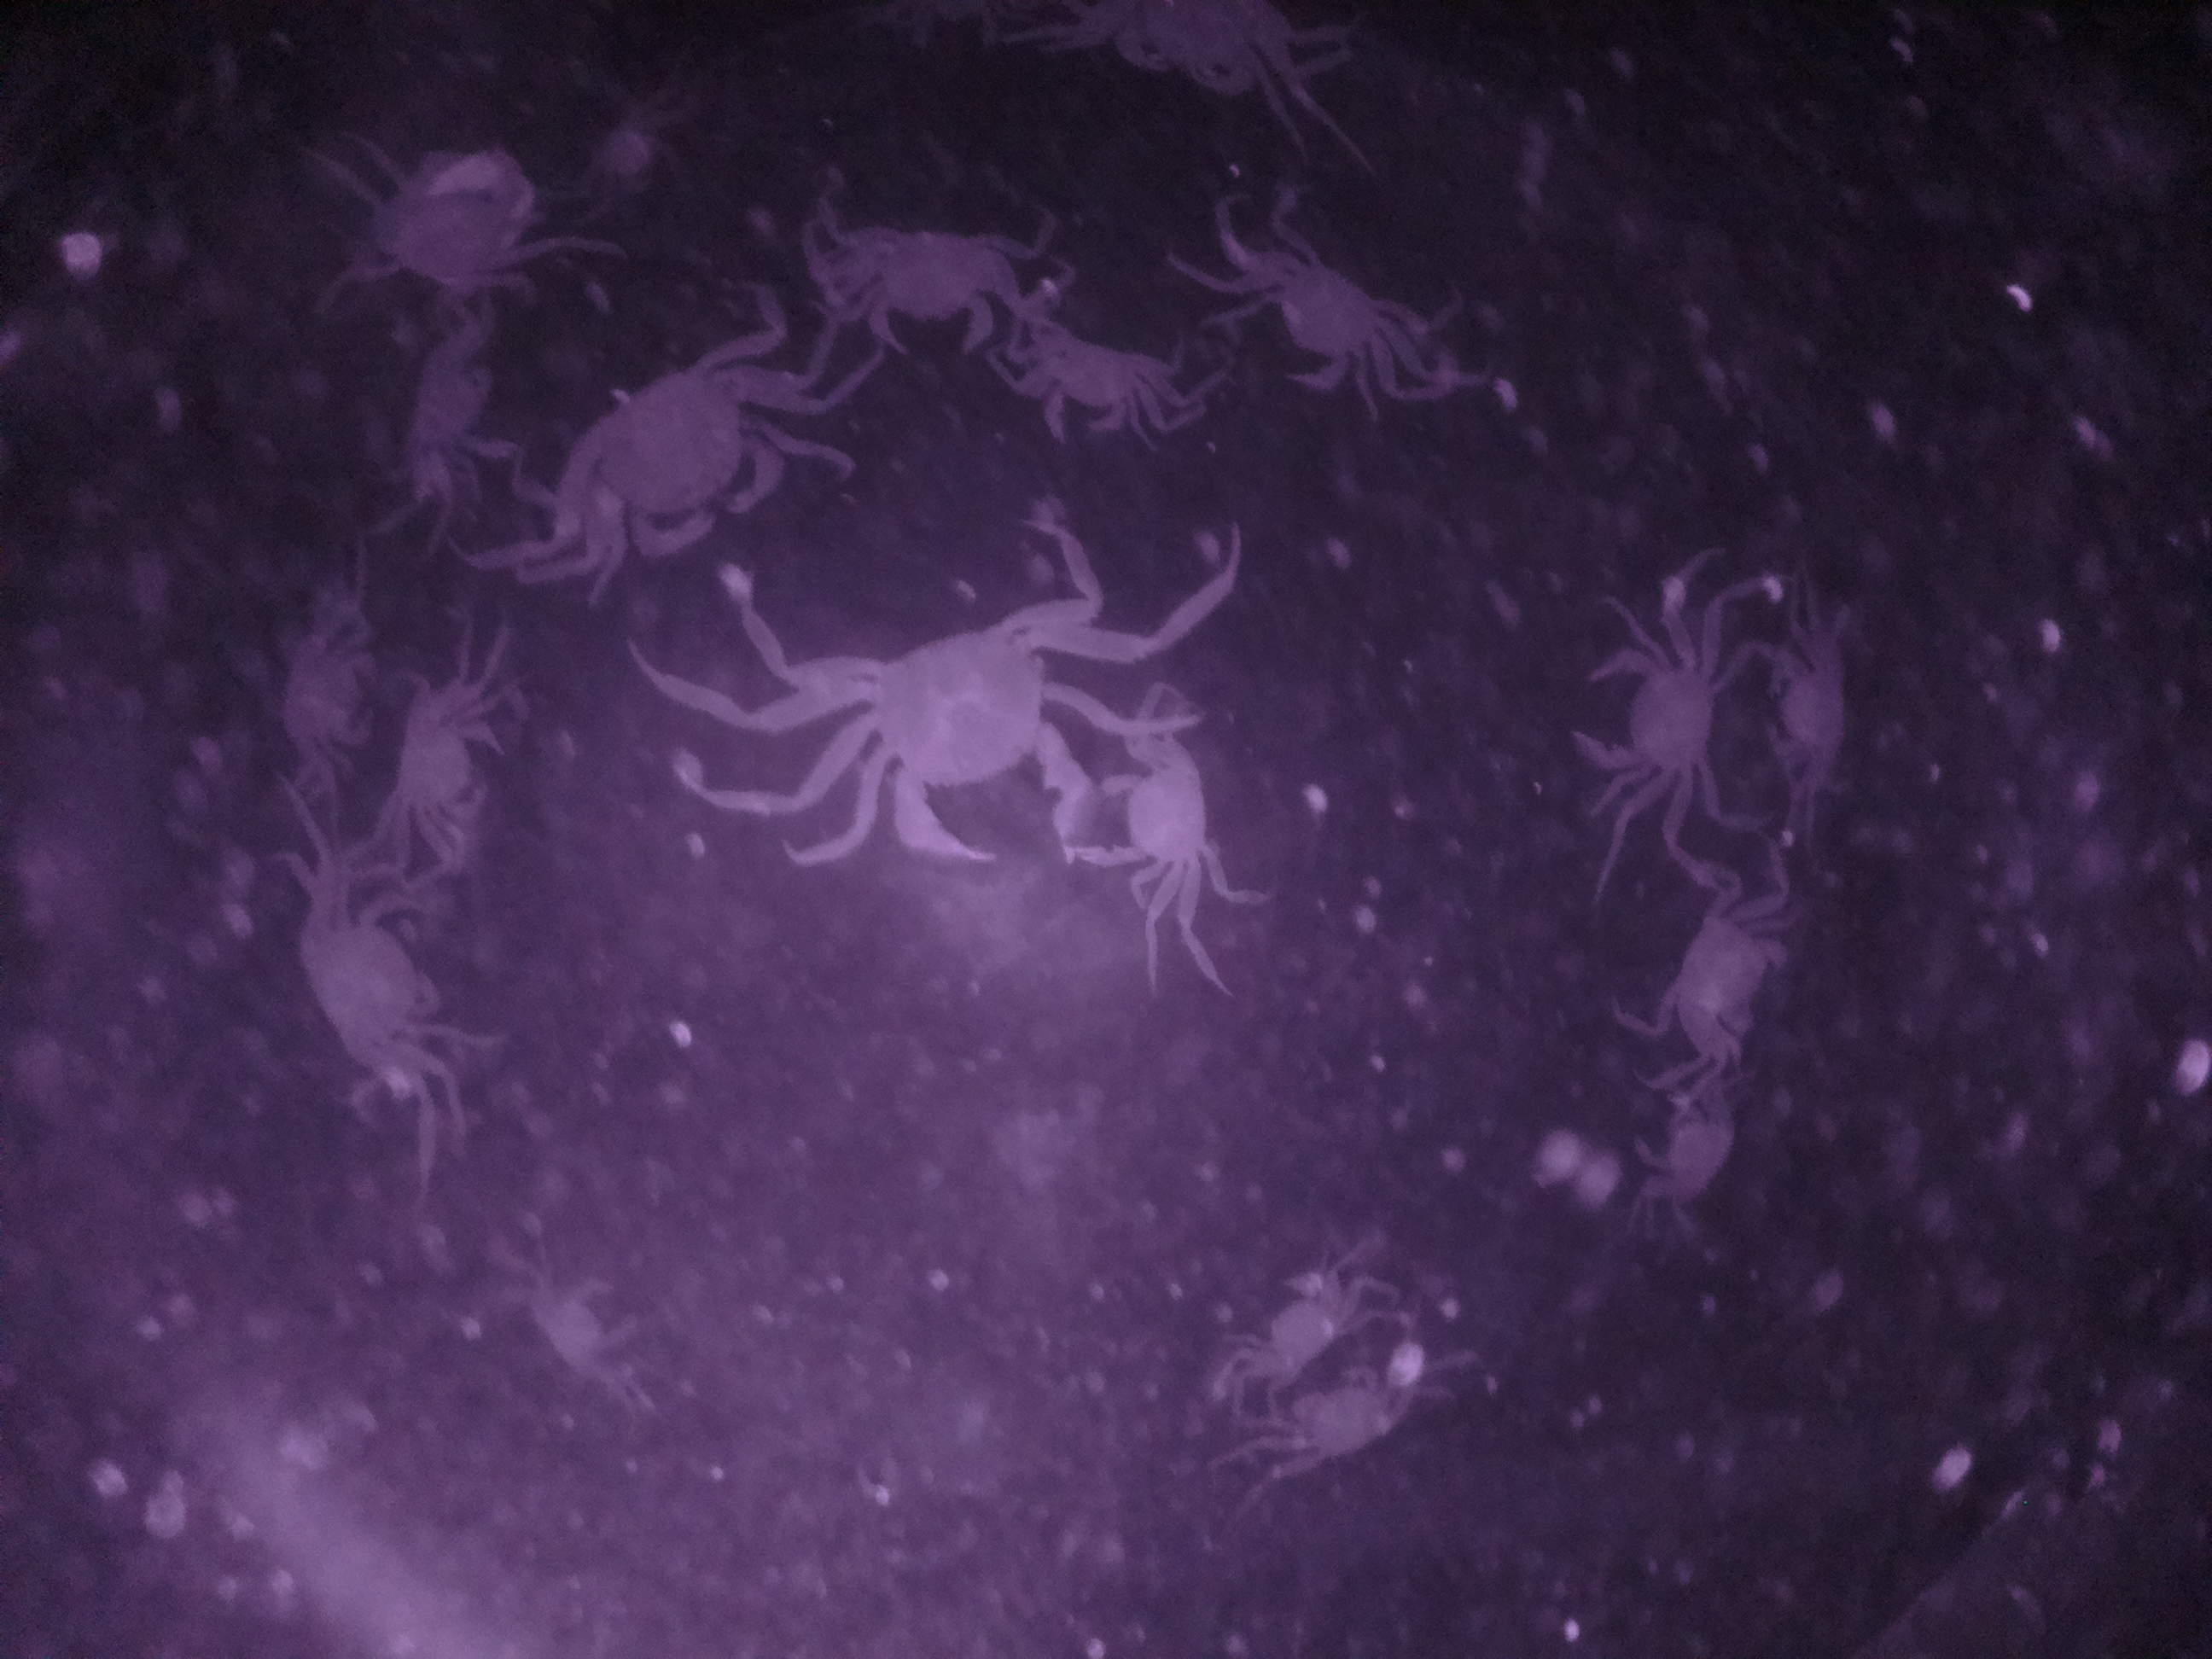Crab: (820, 587, 1096, 885), (542, 340, 791, 575), (261, 877, 451, 1103), (1552, 633, 1737, 824), (1219, 240, 1425, 410), (827, 213, 1022, 364), (1629, 894, 1797, 1060), (1219, 1244, 1369, 1417), (1085, 735, 1247, 890), (1233, 1361, 1430, 1486), (381, 687, 509, 850), (1021, 329, 1172, 443)
